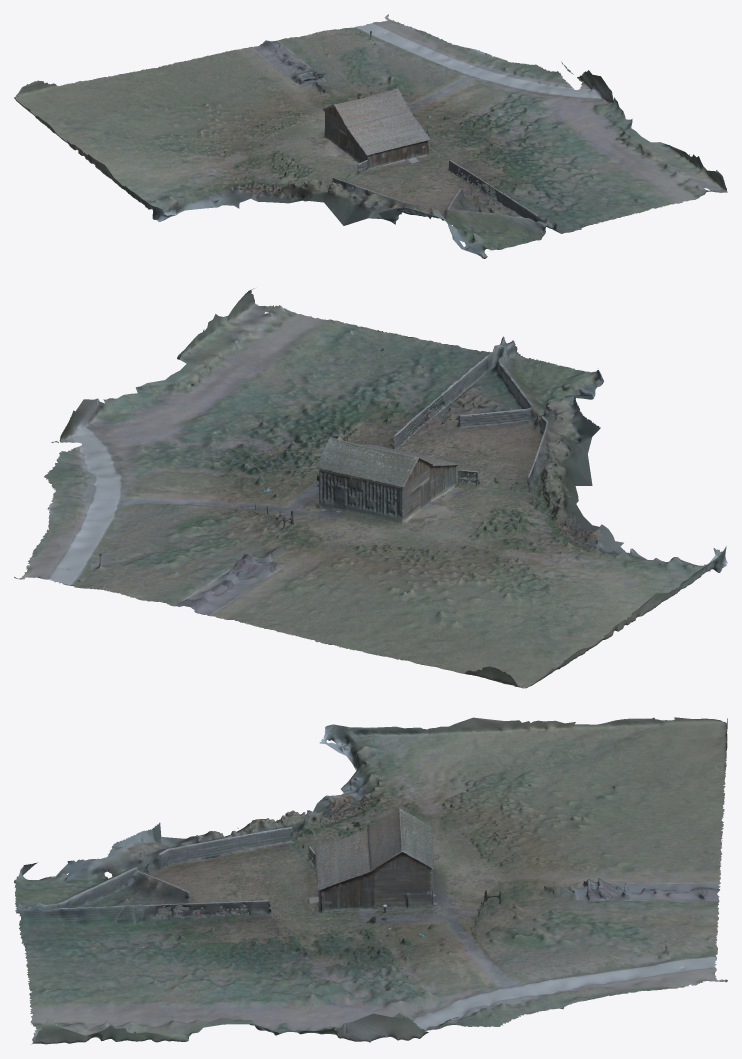
Rendered from vv_granero_rojo_a.glb.
The picture shows the model from 3 angles, top to bottom: view 1: azimuth 30°, elevation 25°; view 2: azimuth 150°, elevation 25°; view 3: azimuth 270°, elevation 25°; orthographic projection. The views are drawn at different scales.
Visible parts, largest first — view 1: Stereo textured mesh; view 2: Stereo textured mesh; view 3: Stereo textured mesh.
Boxes of the visible parts, x1,y1,x2,y2 form: Stereo textured mesh: (14,14,727,258); Stereo textured mesh: (14,288,727,688); Stereo textured mesh: (14,717,727,1044).
Size of the model in its own units: 999 by 119 by 1000.
8 materials, 8 textured.
